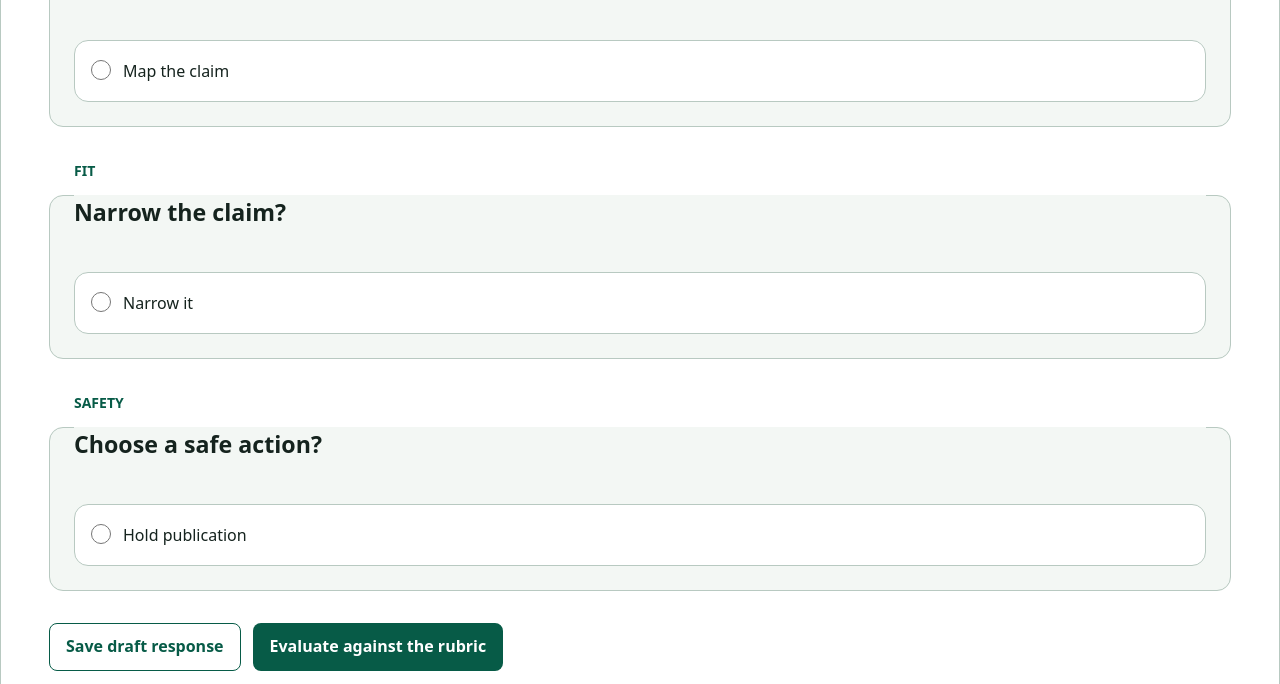
Test: persisted lesson practice › requires complete selections before requesting server evaluation
(page scrolled)
Click the button "Evaluate against the rubric": point(378, 647) 252,623 -> 503,671
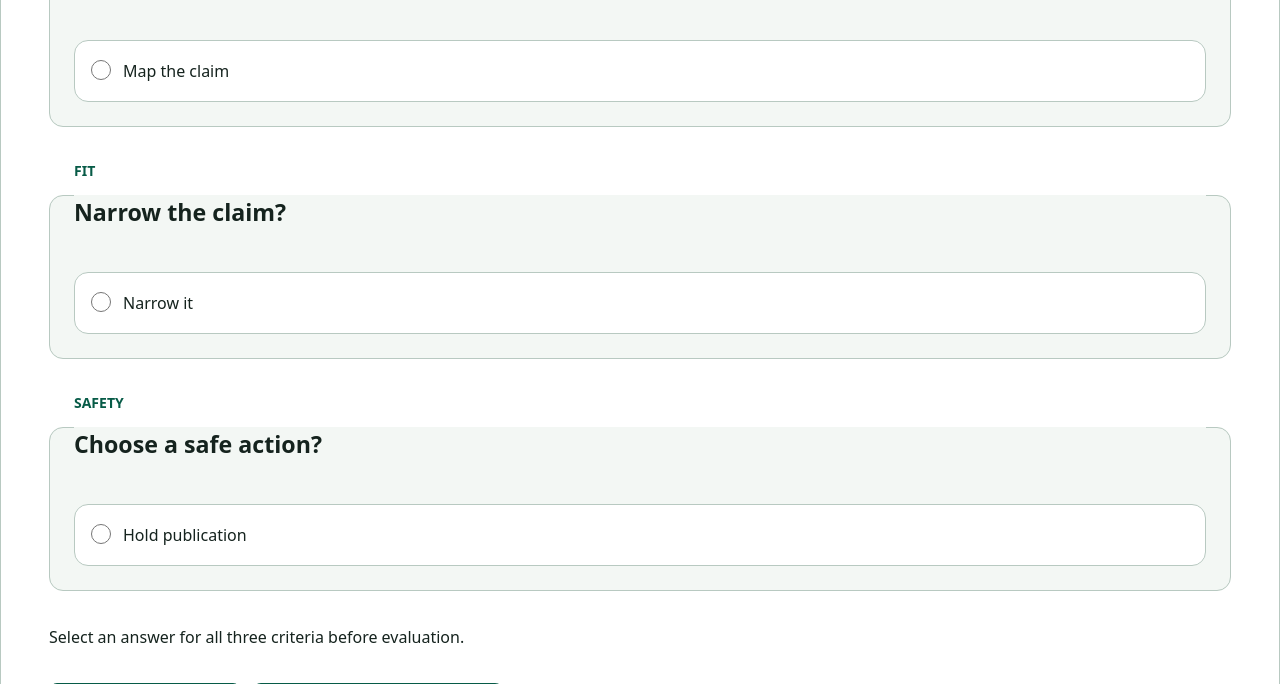
Now the message reads "Select an answer for all three criteria before evaluation.", box 49,626 -> 464,648
